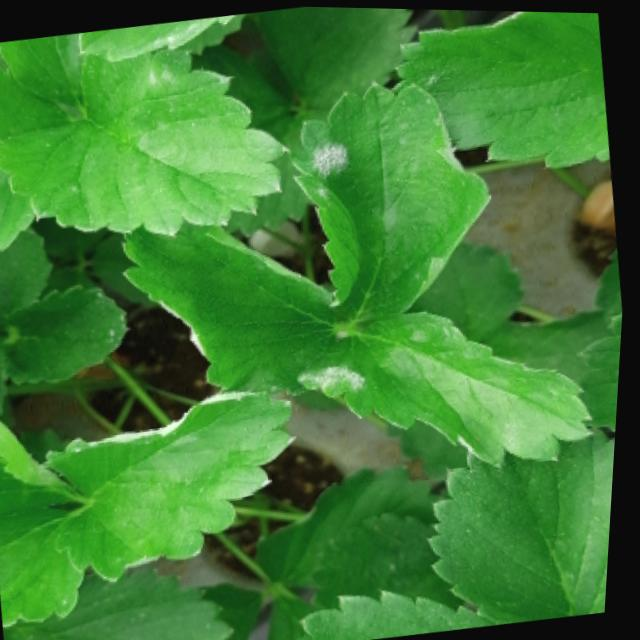Powdery Mildew Leaf: (0, 48, 292, 236), (288, 79, 496, 328), (51, 387, 303, 582), (123, 218, 366, 398), (348, 307, 600, 466), (0, 60, 81, 136), (583, 306, 626, 429), (0, 166, 36, 256)
